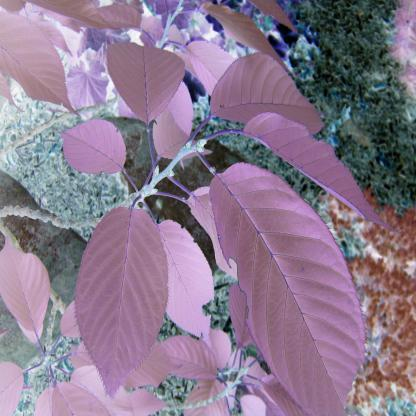Cherry leaf: (206, 154, 378, 416), (70, 202, 178, 398), (246, 108, 395, 244), (204, 50, 337, 142), (0, 13, 89, 122), (97, 33, 194, 133), (0, 229, 50, 344), (50, 115, 130, 182)
